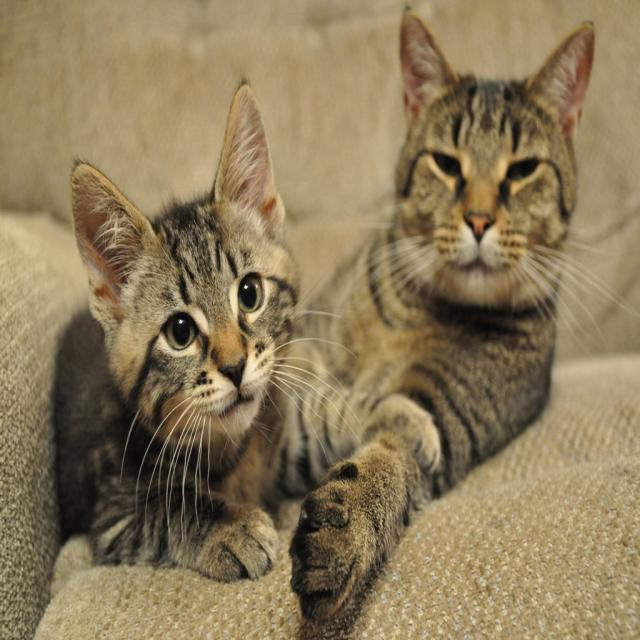Cat: (294, 0, 638, 629), (48, 74, 444, 586)
